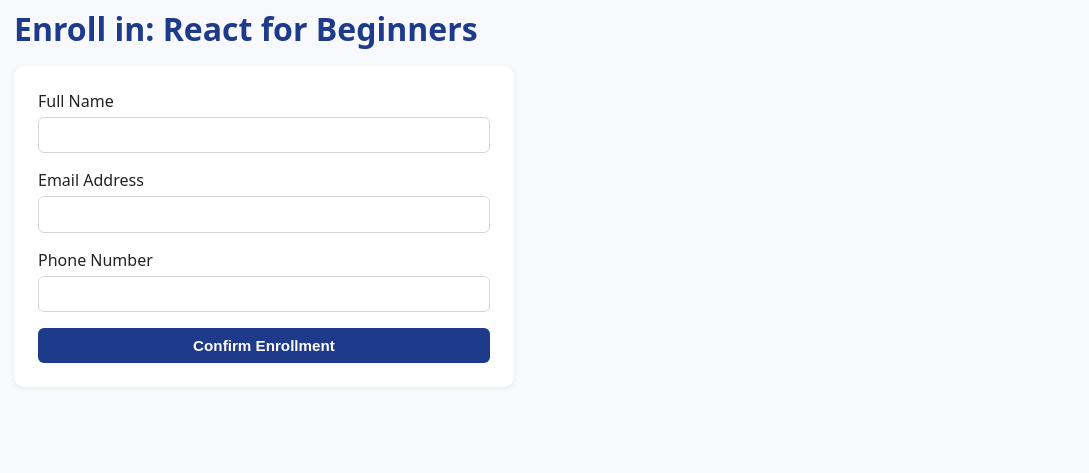
Test case: enrollment validates required fields and submits valid details
Click the button "Confirm Enrollment" at coordinates (264, 346), box [38, 328, 490, 363]
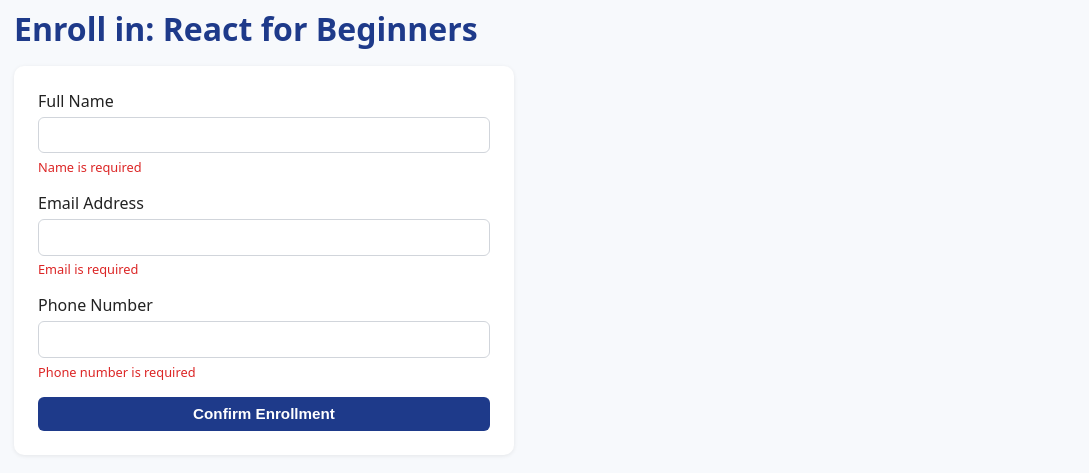
Expected: the text "Name is required" is shown, [38, 158, 142, 176]
Type "Yuvasri" into the field labelled "Full Name" at coordinates (264, 135), box [38, 117, 490, 153]
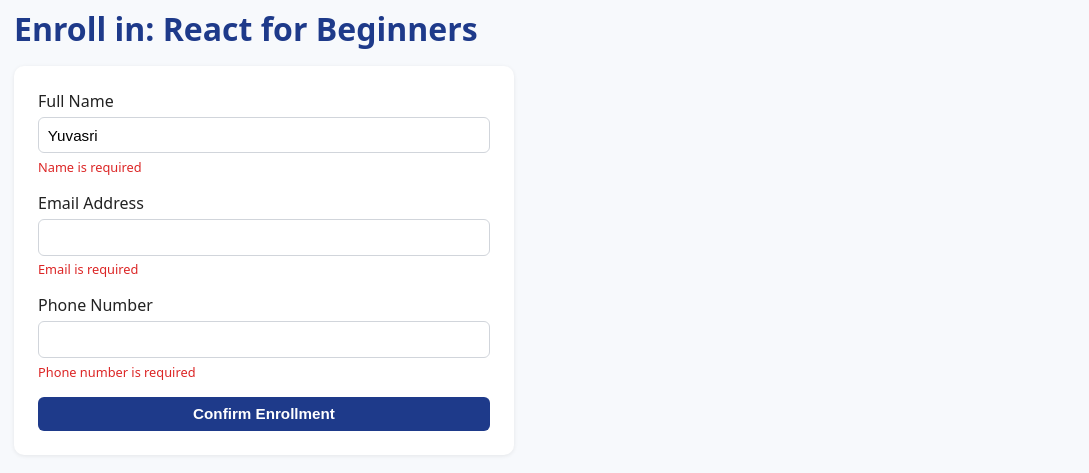
Type "yuvasri@example.com" into the field labelled "Email Address" at coordinates (264, 237), box [38, 219, 490, 256]
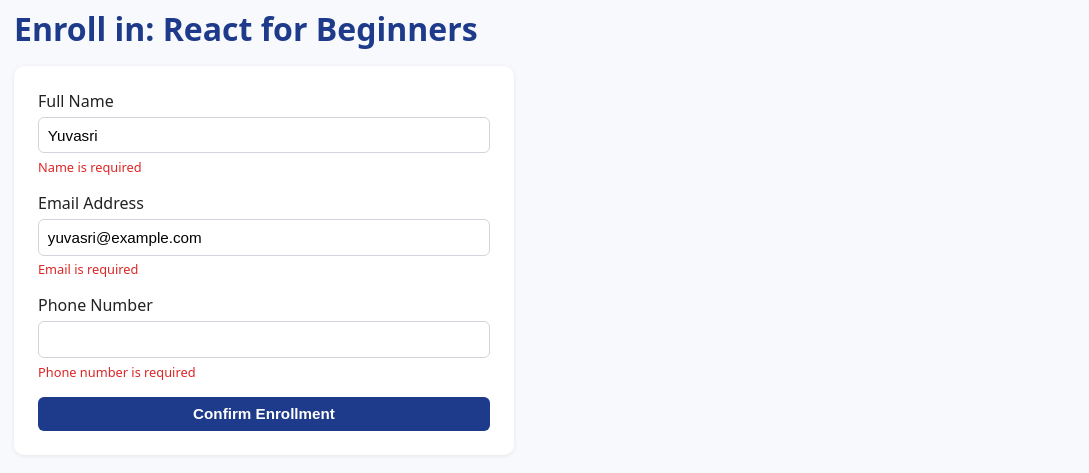
Type "9876543210" into the field labelled "Phone Number" at coordinates (264, 340), box [38, 321, 490, 358]
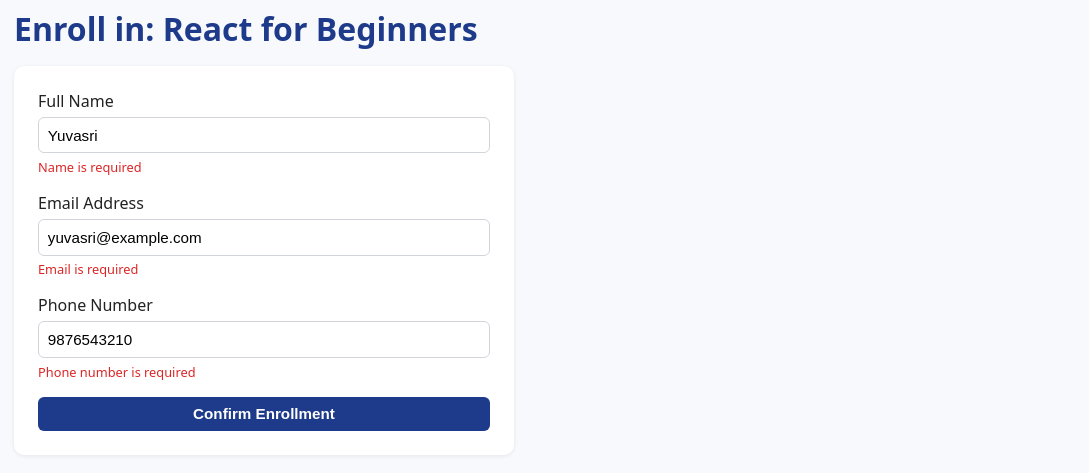
Click the button "Confirm Enrollment" at coordinates (264, 414), box [38, 397, 490, 431]
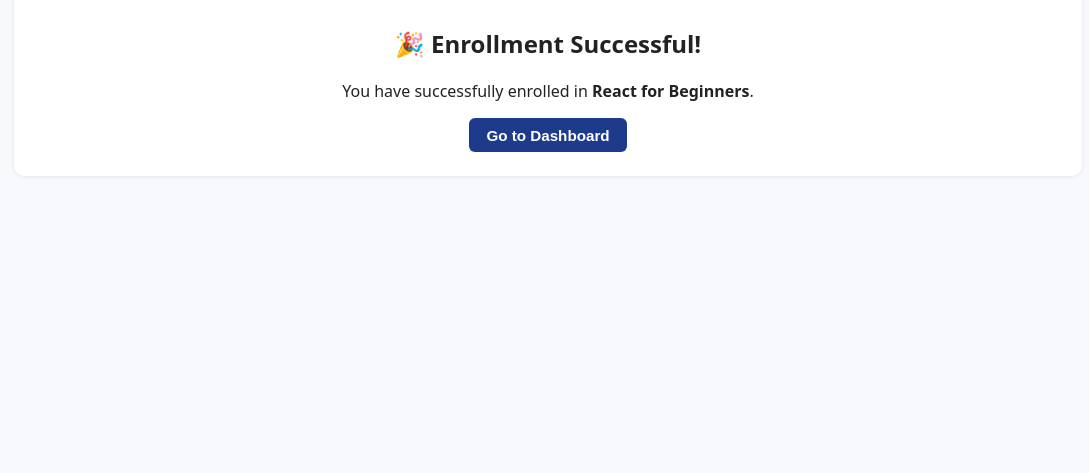
Expected: the text "You have successfully enrolled in React for Beginners." is shown, [342, 80, 754, 102]
